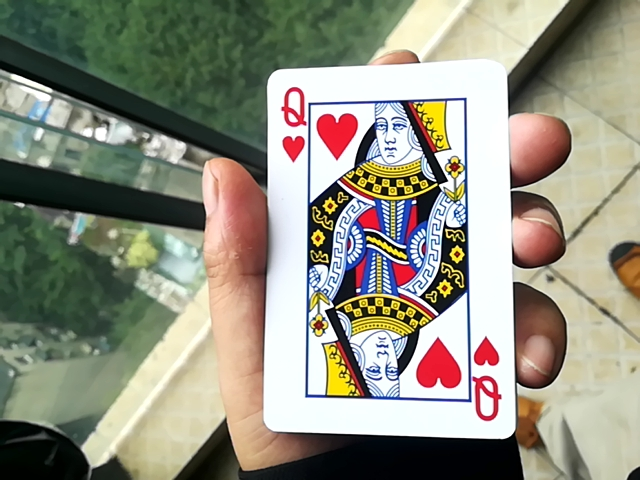hx q: (247, 61, 519, 439)
